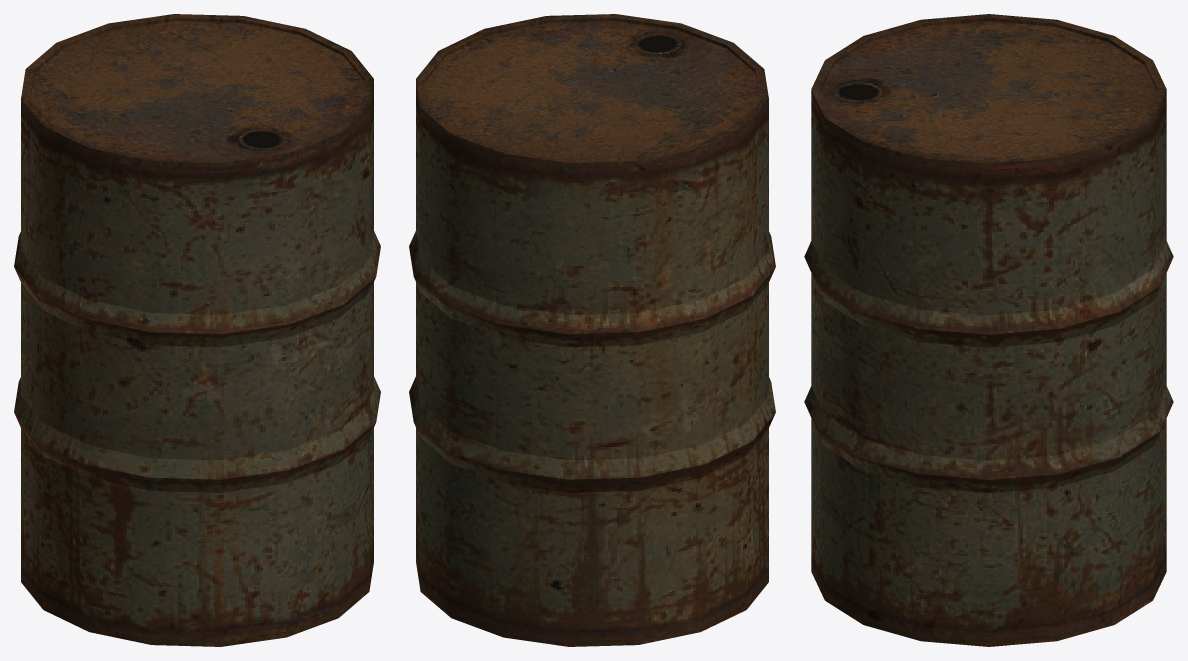
File: metal_barrel_mp_2.glb
The picture shows the model from 3 angles, left to right: view 1: azimuth 30°, elevation 25°; view 2: azimuth 150°, elevation 25°; view 3: azimuth 270°, elevation 25°; orthographic projection.
Parts seen in each view (by area): view 1: metal_barrel_mp_2; view 2: metal_barrel_mp_2; view 3: metal_barrel_mp_2.
Part boxes in pixels (x1=…): metal_barrel_mp_2: x1=14, y1=14, x2=380, y2=646; metal_barrel_mp_2: x1=409, y1=14, x2=775, y2=646; metal_barrel_mp_2: x1=804, y1=14, x2=1173, y2=646.
Size of the model in its own units: 0.7488 by 1.08 by 0.7488.
Materials: 1 (1 with a texture image).
